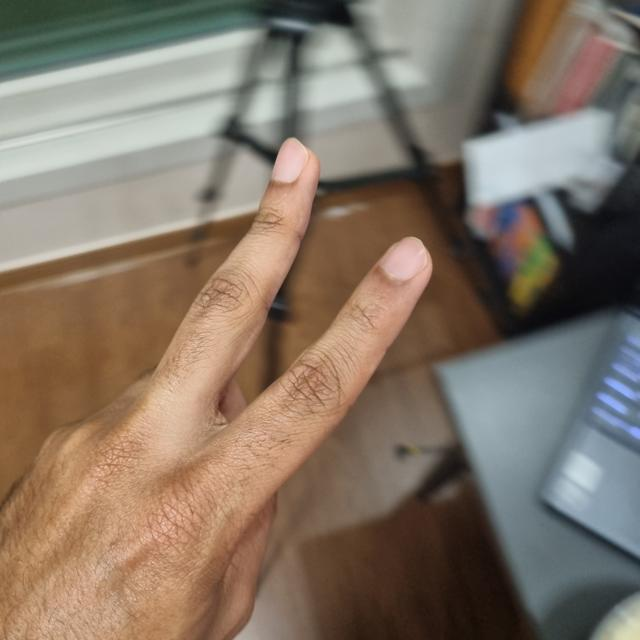Scissors: (117, 147, 434, 638)
